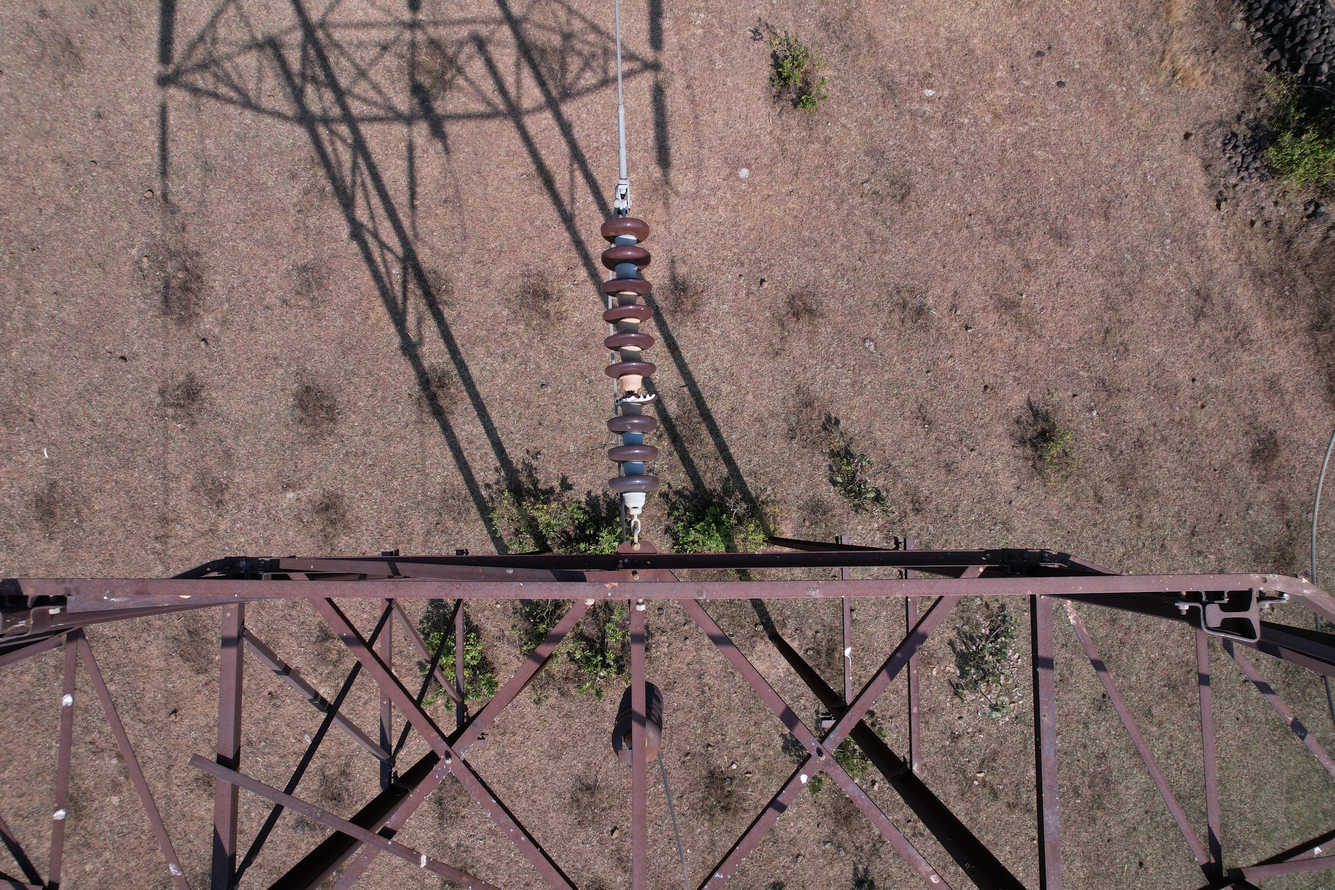broken_insulator: (613, 390, 658, 407)
